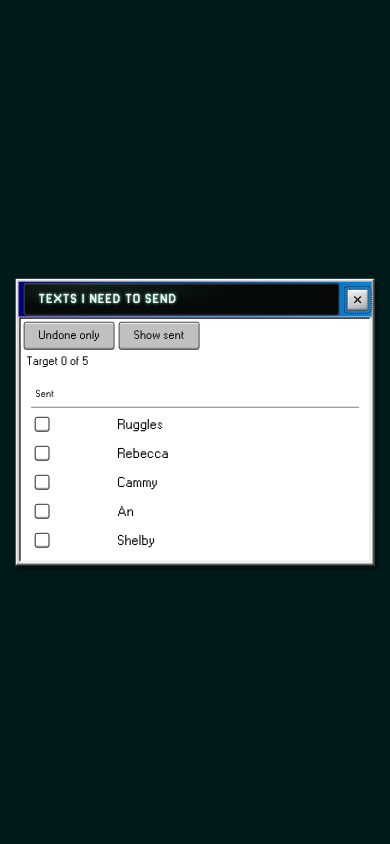
HabitListPopup › renders the texts list names and a target, not a plate
Expected: the text "Ruggles" is shown, [117,417,163,430]
Expected: the text "Rebecca" is shown, [117,446,169,459]
Click the button named "Sent Ruggles".
click(42, 424)  # box [36,417,49,430]
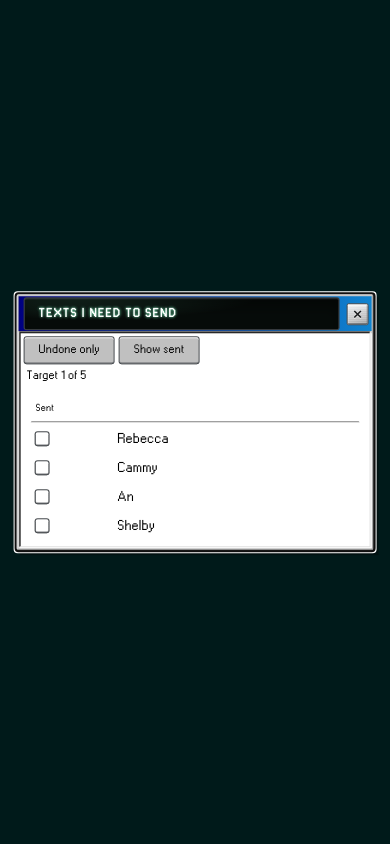
Expected: the text "Rebecca" is shown, [117,432,169,445]
Expected: the text "Ruggles" is gone
Expected: the text with test id "habit-list-target" reads "Target 1 of 5", [27,370,86,381]
Click the button "Show sent".
click(159, 350)  # box [120,337,198,363]
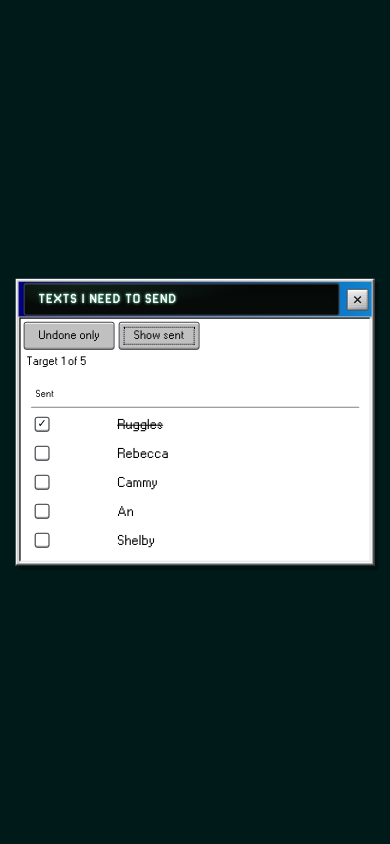
Expected: the text "Ruggles" is shown, [117,417,163,430]
Click the button "Undone only".
click(69, 336)  # box [25,323,114,349]
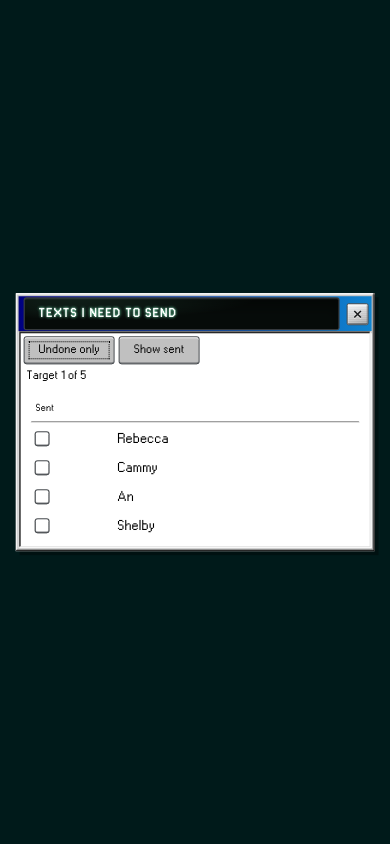
Expected: the text "Cammy" is shown, [117,461,158,474]
Expected: the text "Ruggles" is gone
Click the button "Undone only".
click(69, 350)  # box [25,337,114,363]
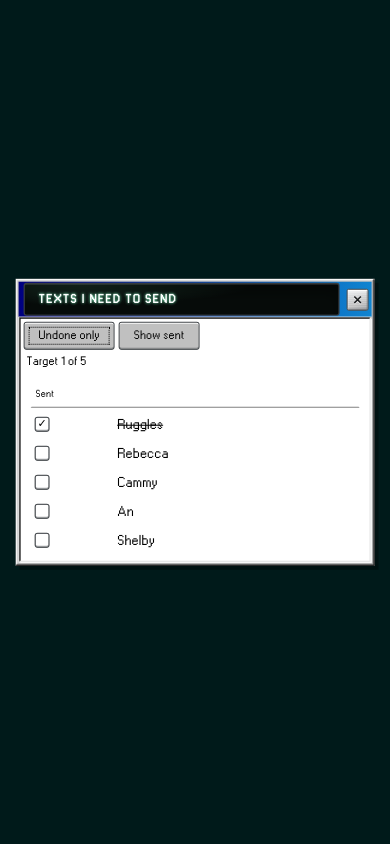
Click the button named "Sent Ruggles".
click(42, 424)  # box [36,417,49,430]
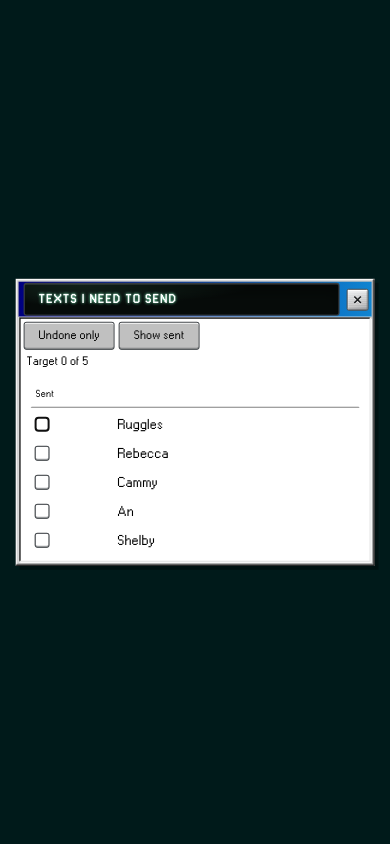
Expected: the text with test id "habit-list-target" reads "Target 0 of 5", [27,356,88,367]
